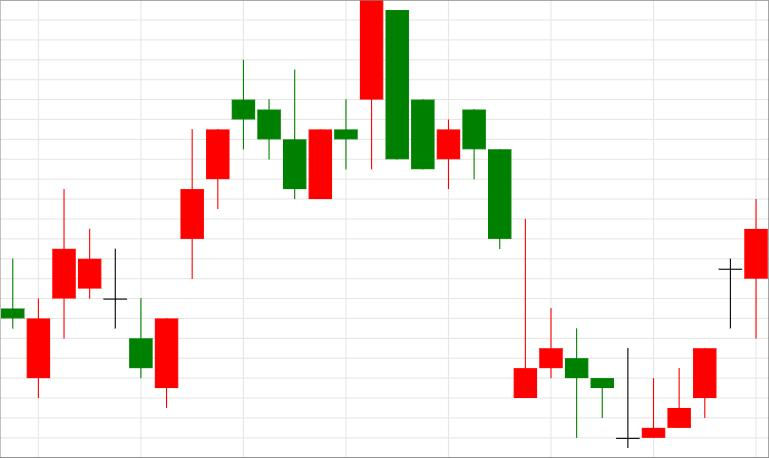inverse_hammer_rise: (386, 9, 537, 399), (53, 188, 152, 379)
